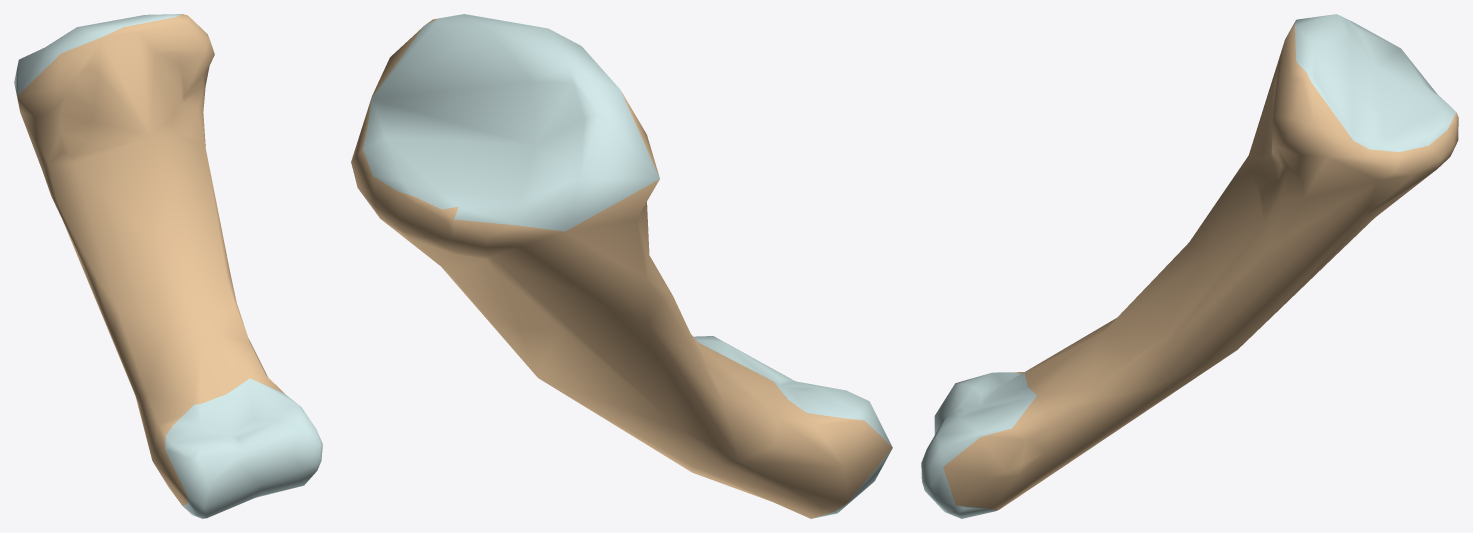
The model's file is Middle_phalanx_of_4th_finger.r_Generated_Mesh_From_X3D.716.glb.
The picture shows the model from 3 angles, left to right: view 1: azimuth 30°, elevation 25°; view 2: azimuth 150°, elevation 25°; view 3: azimuth 270°, elevation 25°; orthographic projection. The views are drawn at different scales.
Parts seen in each view (by area): view 1: Middle_phalanx_of_4th_finger.r_Generated_Mesh_From_X3D.716; view 2: Middle_phalanx_of_4th_finger.r_Generated_Mesh_From_X3D.716; view 3: Middle_phalanx_of_4th_finger.r_Generated_Mesh_From_X3D.716.
Part boxes in pixels (x1,y1,x2,y2): Middle_phalanx_of_4th_finger.r_Generated_Mesh_From_X3D.716: [14, 14, 322, 518]; Middle_phalanx_of_4th_finger.r_Generated_Mesh_From_X3D.716: [351, 14, 892, 518]; Middle_phalanx_of_4th_finger.r_Generated_Mesh_From_X3D.716: [921, 14, 1458, 518].
Bounding box in the file's own units: 0.0126 × 0.0248 × 0.0251.
